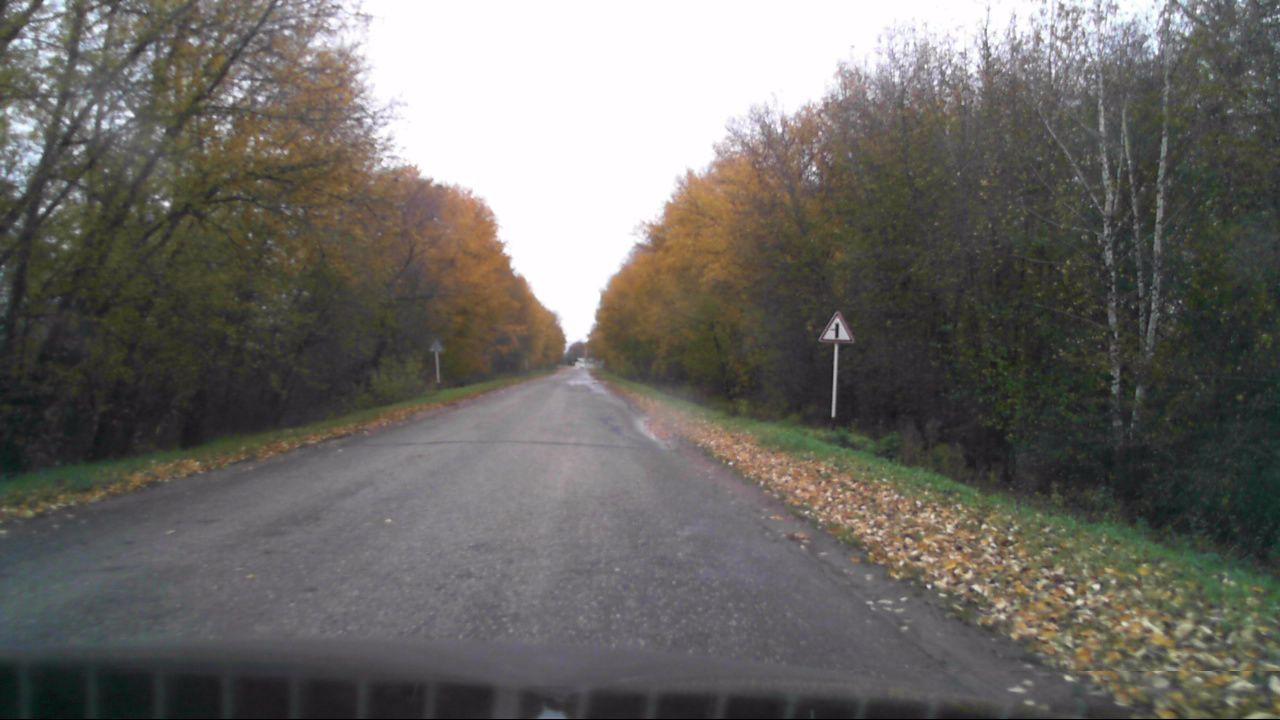2_3_3: (819, 311, 853, 343)
